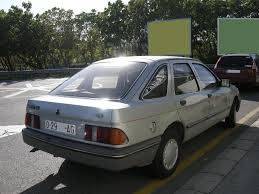car: (22, 55, 242, 172), (213, 49, 259, 94)
